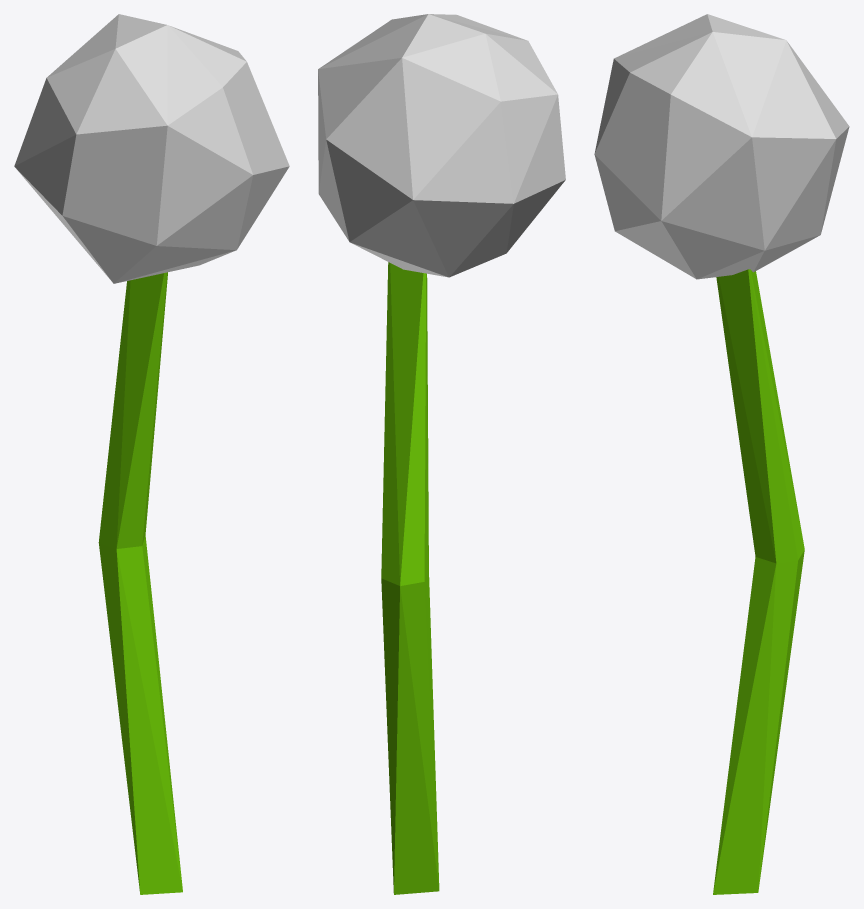
Rendered from Dandilion.fbx.
The picture shows the model from 3 angles, left to right: view 1: azimuth 30°, elevation 25°; view 2: azimuth 150°, elevation 25°; view 3: azimuth 270°, elevation 25°; orthographic projection.
Visible parts, largest first — view 1: Sphere.016; view 2: Sphere.016; view 3: Sphere.016.
Boxes of the visible parts, x1,y1,x2,y2 form: Sphere.016: [14, 14, 289, 894]; Sphere.016: [318, 14, 565, 894]; Sphere.016: [594, 14, 849, 894].
Bounding box in the file's own units: 357 × 1365 × 369.
